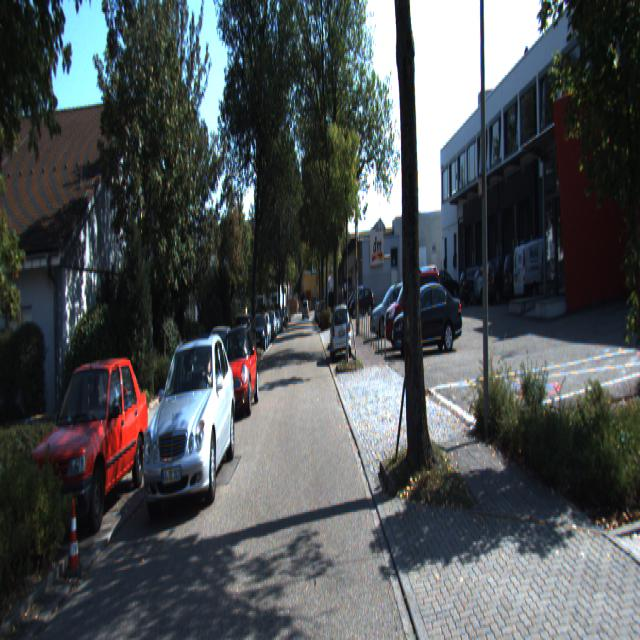Car: (23, 352, 150, 551), (138, 329, 238, 516), (390, 278, 464, 353), (384, 261, 446, 347), (512, 232, 577, 307), (214, 322, 258, 422), (330, 302, 352, 364)
